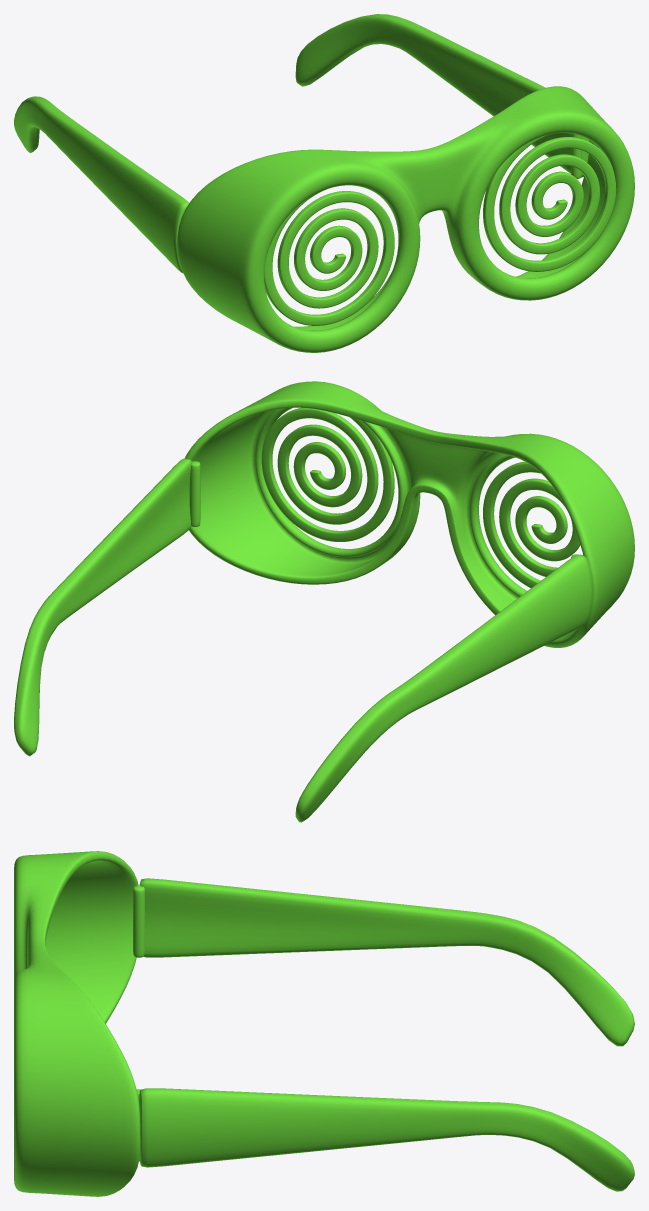
Rendered from hypno.glb.
The picture shows the model from 3 angles, top to bottom: view 1: azimuth 30°, elevation 25°; view 2: azimuth 150°, elevation 25°; view 3: azimuth 270°, elevation 25°; orthographic projection. The views are drawn at different scales.
Parts seen in each view (by area): view 1: 17892_Hypno_Glasses_v1_NEW; view 2: 17892_Hypno_Glasses_v1_NEW; view 3: 17892_Hypno_Glasses_v1_NEW.
Part boxes in pixels (<box>): 17892_Hypno_Glasses_v1_NEW: <box>14,14,634,352</box>; 17892_Hypno_Glasses_v1_NEW: <box>14,381,634,822</box>; 17892_Hypno_Glasses_v1_NEW: <box>14,851,634,1196</box>.
Bounding box in the file's own units: 16.24 × 6.85 × 19.06.
